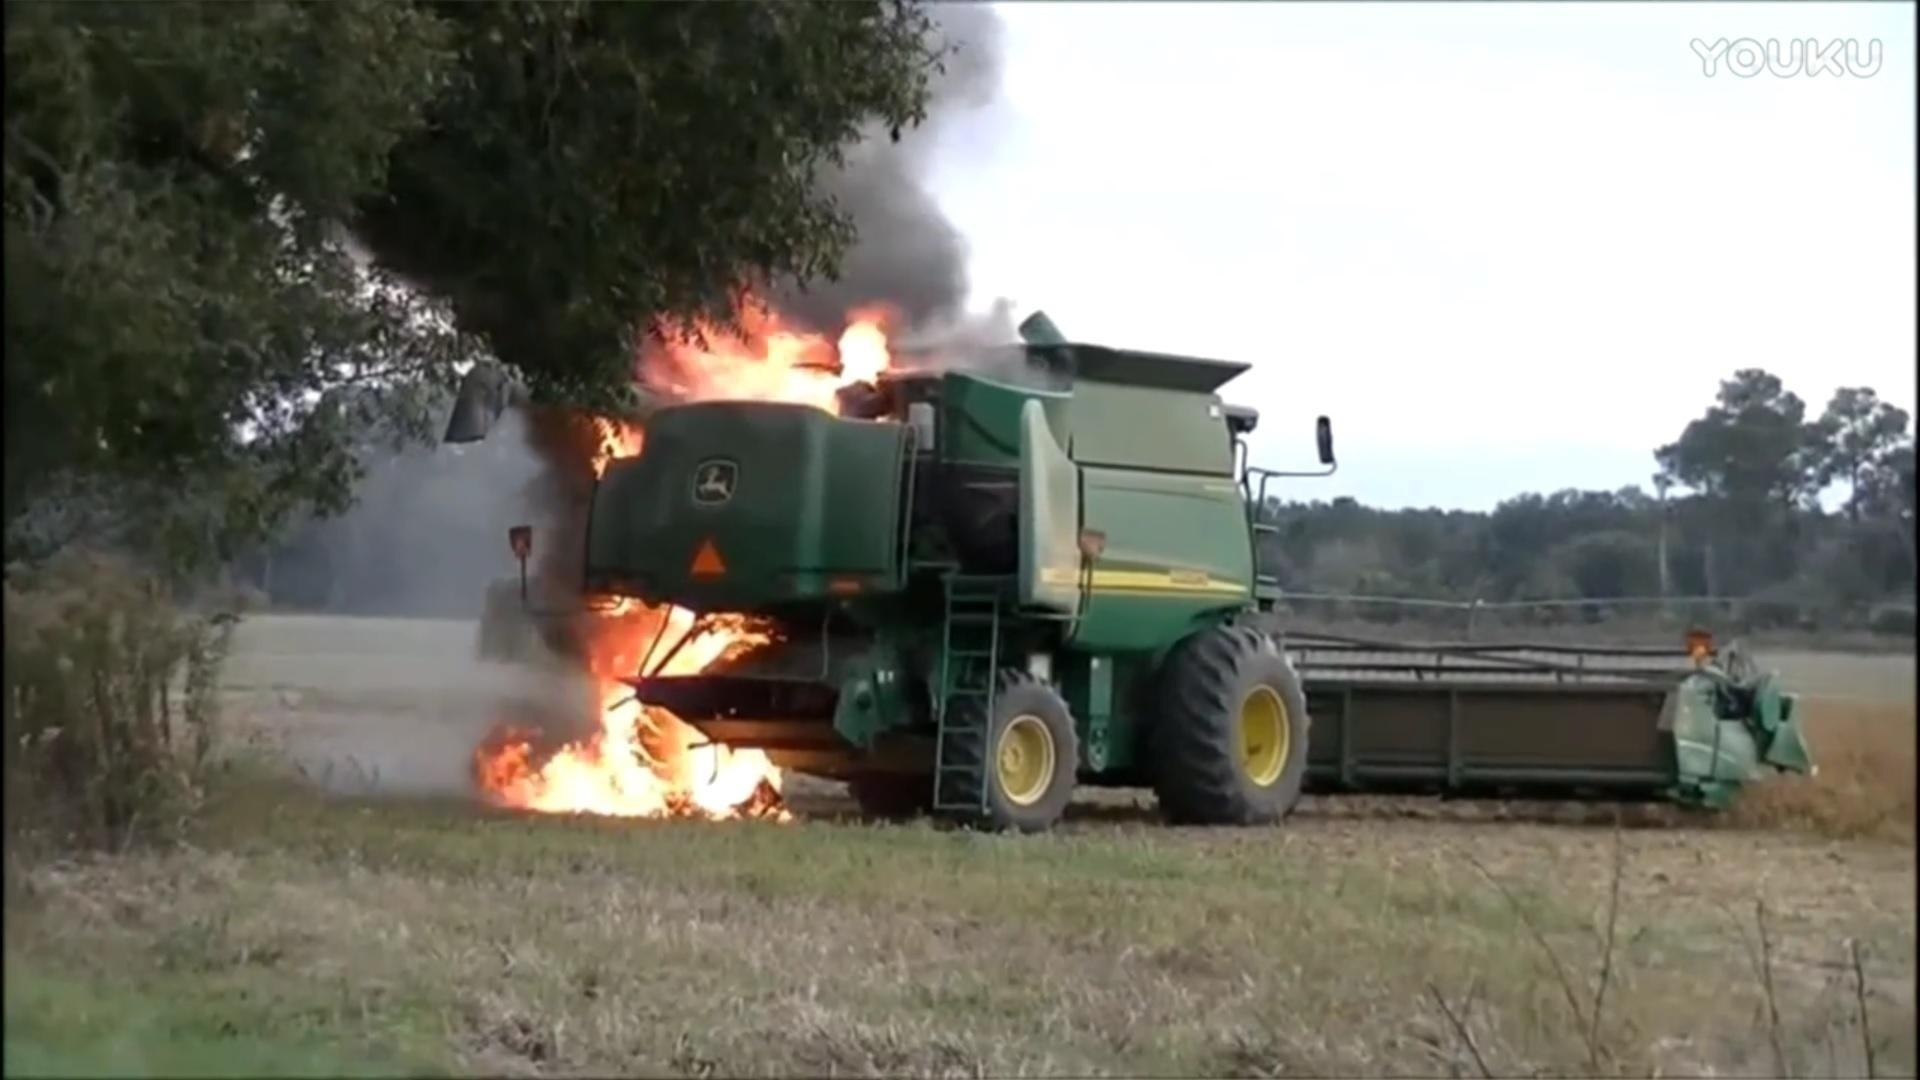fire: (489, 592, 790, 820), (644, 301, 886, 409), (587, 414, 646, 471)
